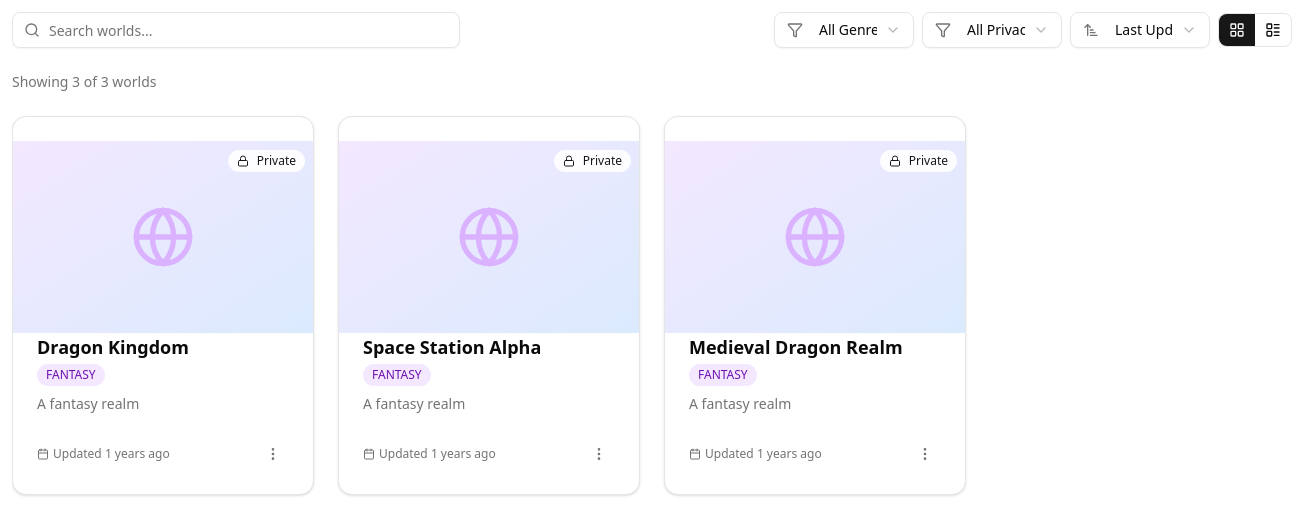
Test: WorldsList › Search › filters worlds by name
Type "dragon" into the field with placeholder "Search worlds..." at (236, 30), box [12, 12, 460, 48]
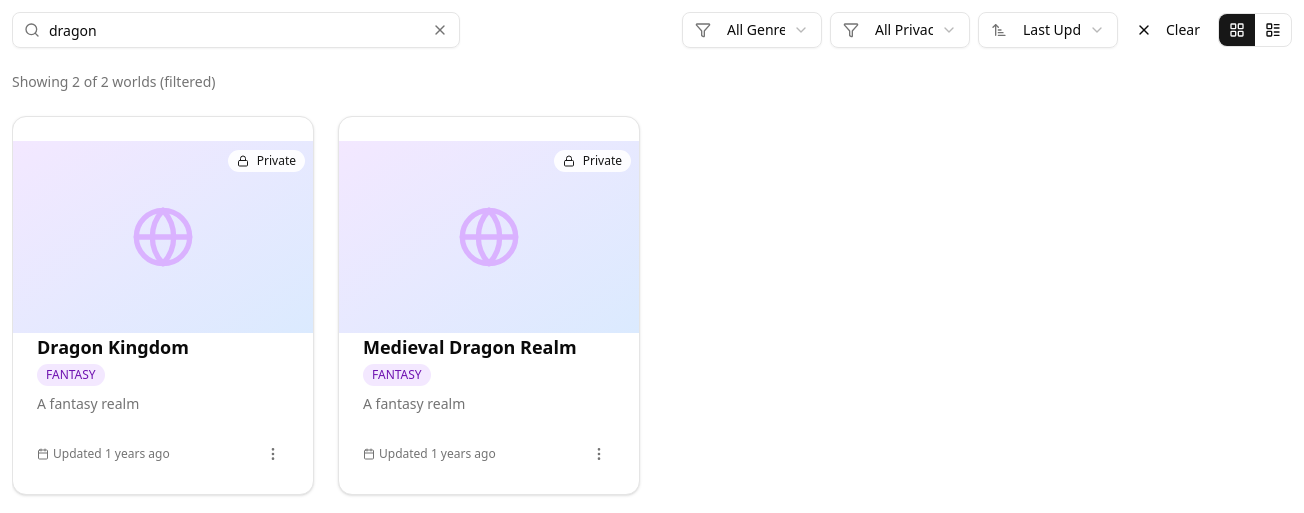
Expected: the heading "Dragon Kingdom" is shown, [37, 335, 189, 359]
Now the link "Space Station Alpha" is gone
